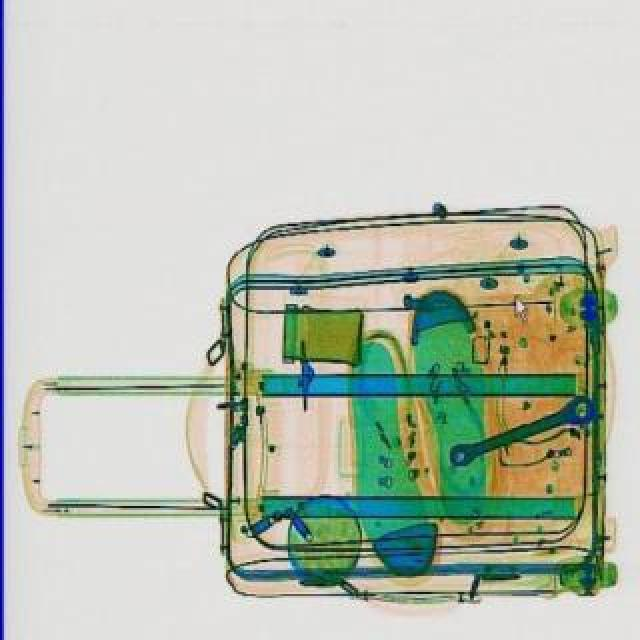scissors: (444, 390, 600, 474)
